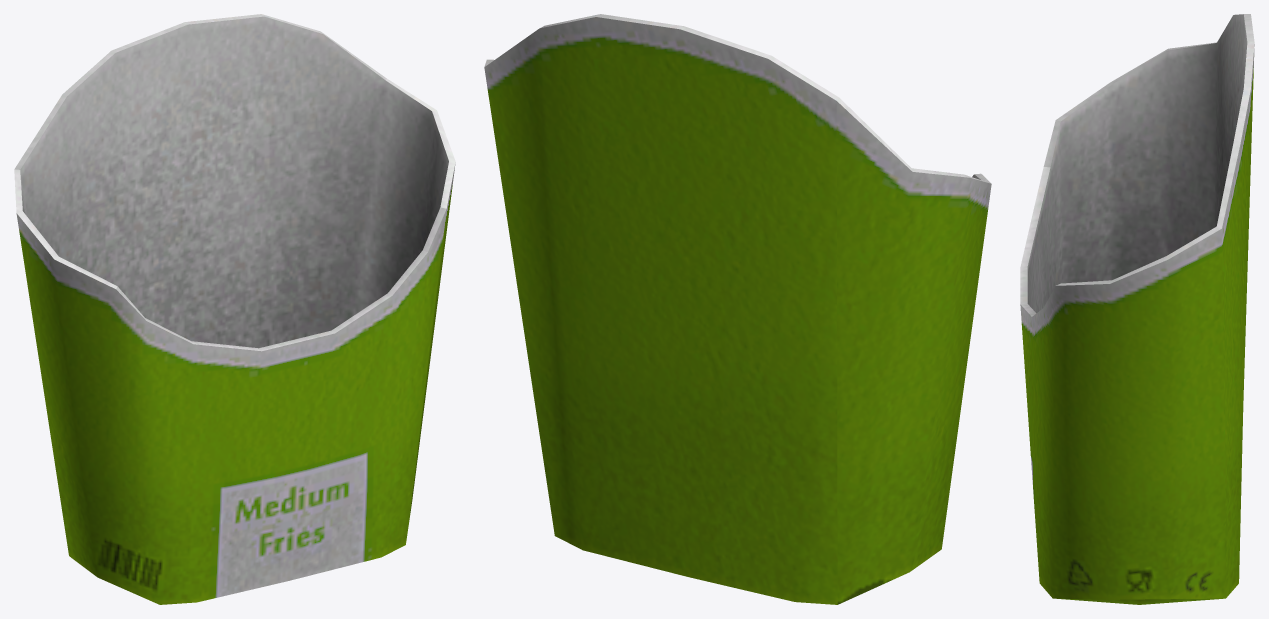
The model's file is burger_fries_box.dae.
3 renders of one model, left to right at view 1: azimuth 30°, elevation 25°; view 2: azimuth 150°, elevation 25°; view 3: azimuth 270°, elevation 25°, orthographic. The views are drawn at different scales.
Visible parts, largest first — view 1: polySurface18; view 2: polySurface18; view 3: polySurface18.
Part boxes in pixels (x1,y1,x2,y2): polySurface18: (14,14,455,604); polySurface18: (484,14,991,604); polySurface18: (1020,14,1254,604).
Bounding box in the file's own units: 0.186 × 0.2038 × 0.0873.
